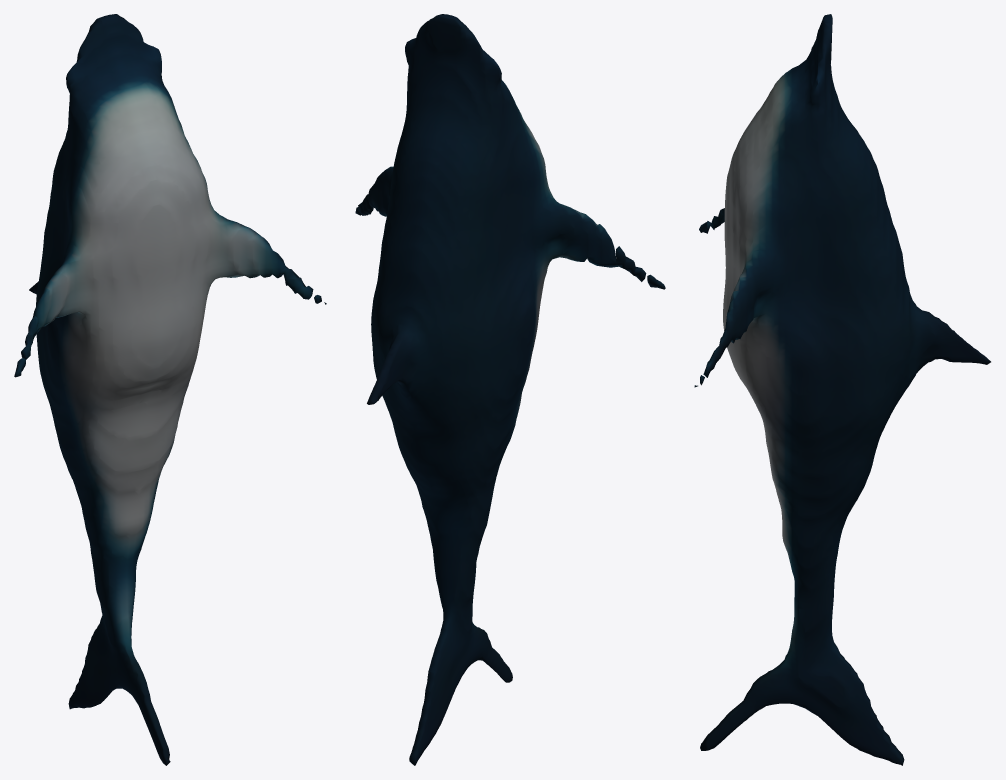
3 views of the same model, side by side, from view 1: azimuth 30°, elevation 25°; view 2: azimuth 150°, elevation 25°; view 3: azimuth 270°, elevation 25° (orthographic). The views are drawn at different scales.
Parts seen in each view (by area): view 1: plyFile; view 2: plyFile; view 3: plyFile.
Part boxes in pixels (x1,y1,x2,y2): plyFile: (14, 14, 326, 765); plyFile: (355, 14, 665, 765); plyFile: (694, 14, 990, 765).
Bounding box in the file's own units: 88.94 × 197 × 70.9.
